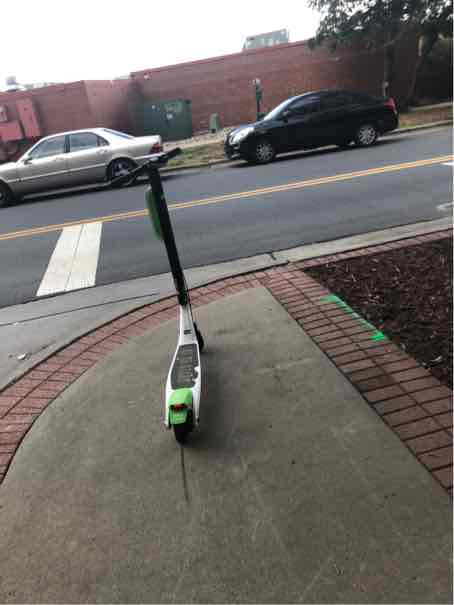scooter: (111, 138, 218, 450)
